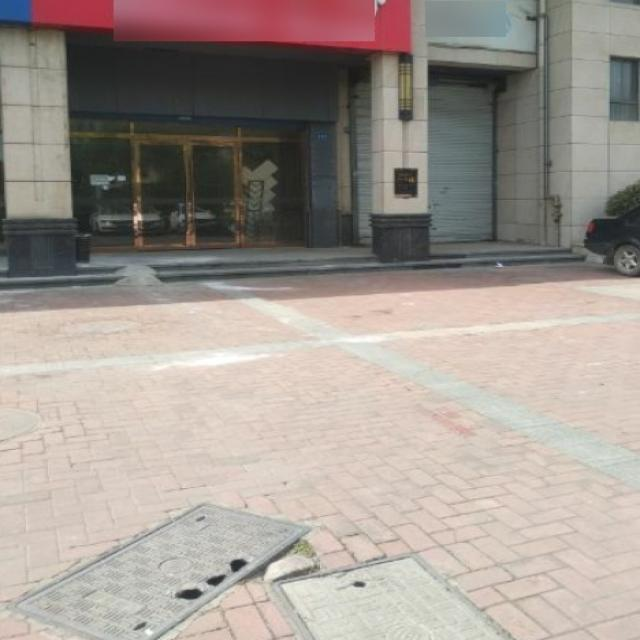Broken: (6, 498, 310, 640)
Good: (267, 550, 534, 640)
